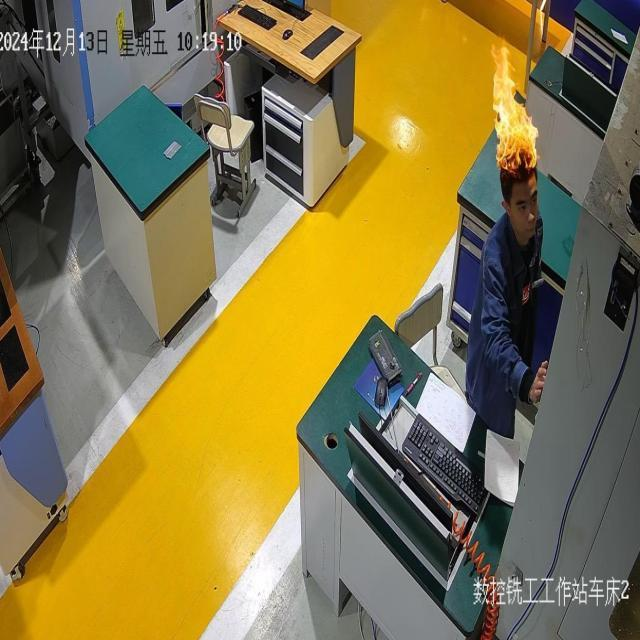smoke: (492, 38, 542, 178)
